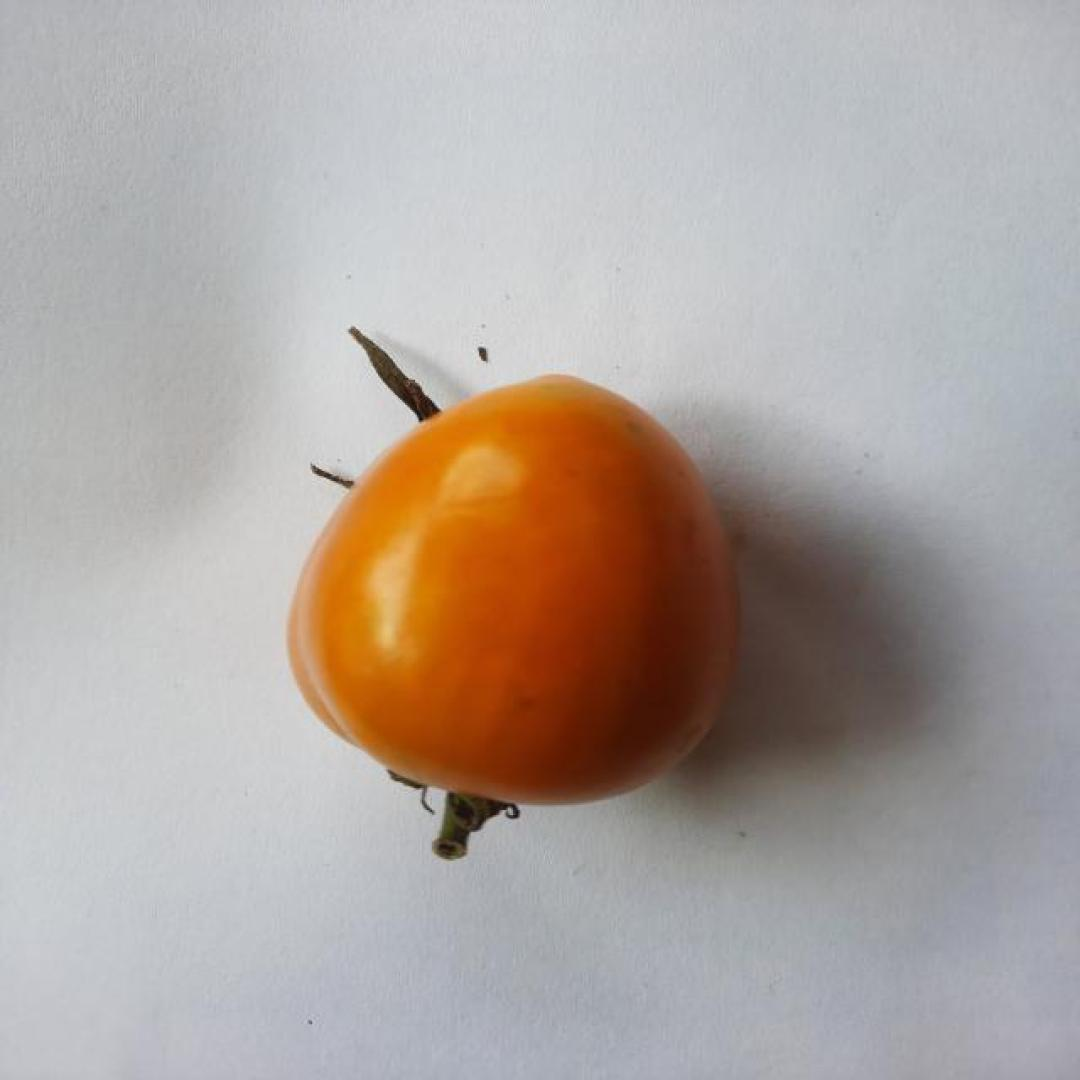setengah_matang: (283, 373, 746, 808)
